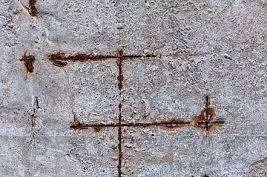Corrosion: (18, 54, 36, 74), (27, 1, 38, 17)
Exposed reinforcement: (69, 119, 191, 130), (46, 54, 157, 59), (116, 102, 123, 177), (116, 49, 124, 91), (204, 94, 209, 132), (196, 119, 225, 124)
